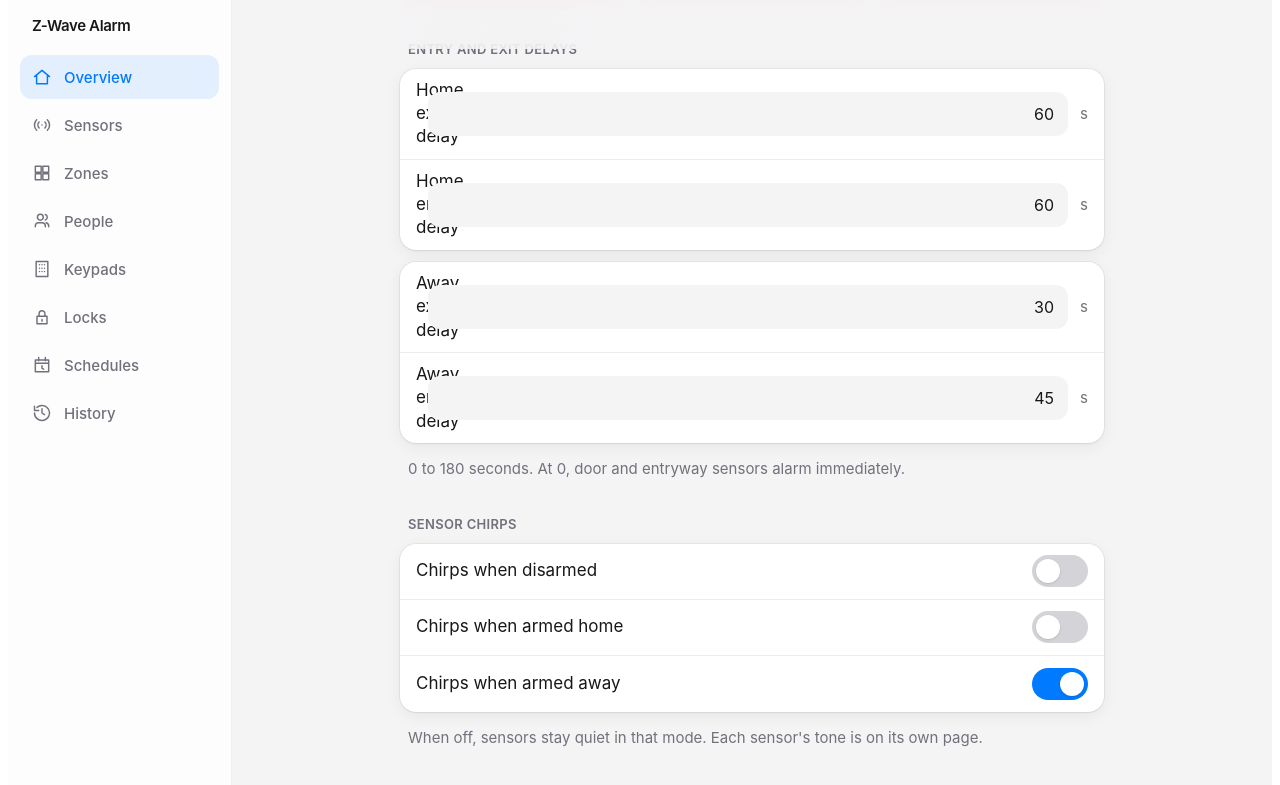
Test: chirps, tones and keypad volume › explains a refusal and keeps the switch as it was
(page scrolled)
Click the switch named "Chirps when armed home" at (1060,627), box [1032,611,1088,643]
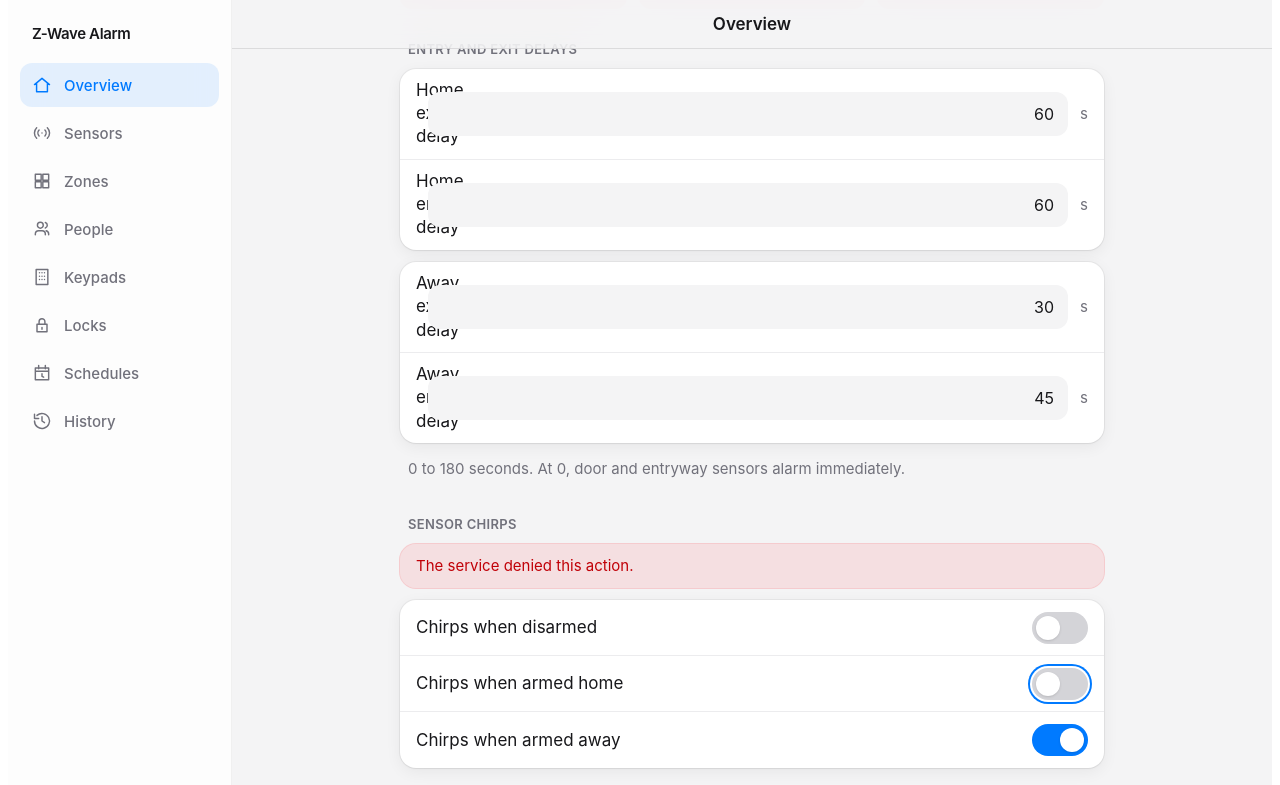
Expected: the message shows "denied", [416,556,634,575]
